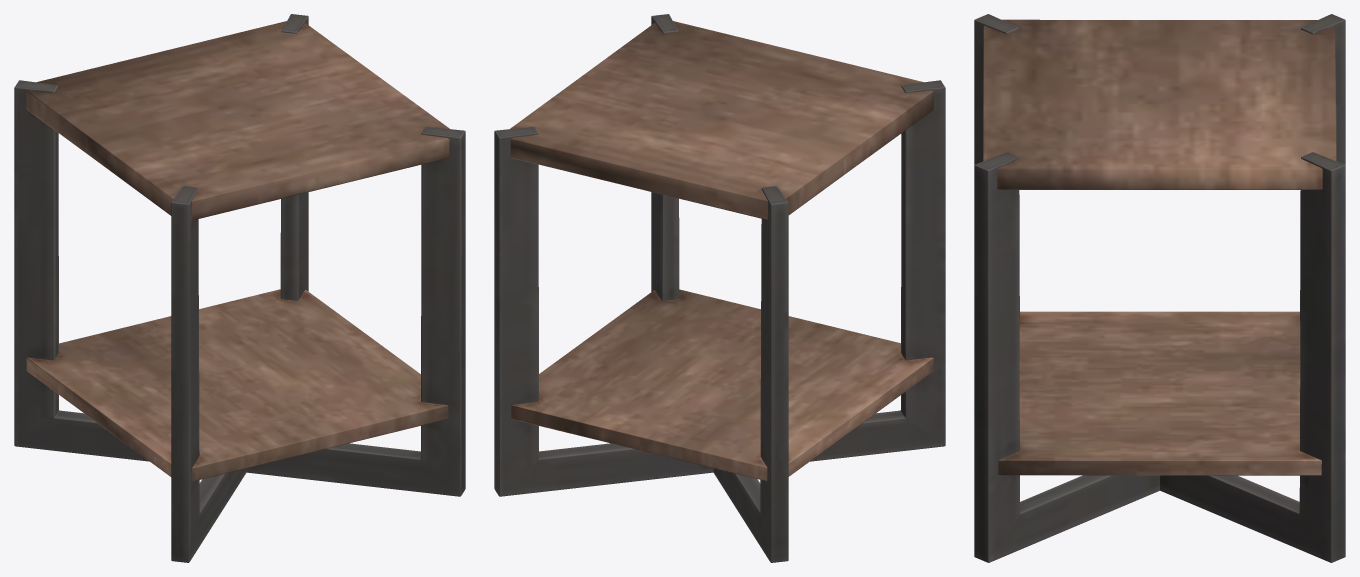
Rendered from SM_SideTable_0d5d61.glb.
3 renders of one model, left to right at view 1: azimuth 30°, elevation 25°; view 2: azimuth 150°, elevation 25°; view 3: azimuth 270°, elevation 25°, orthographic. The views are drawn at different scales.
Size of the model in its own units: 0.5399 by 0.6298 by 0.5398.
1 material, 1 textured.
